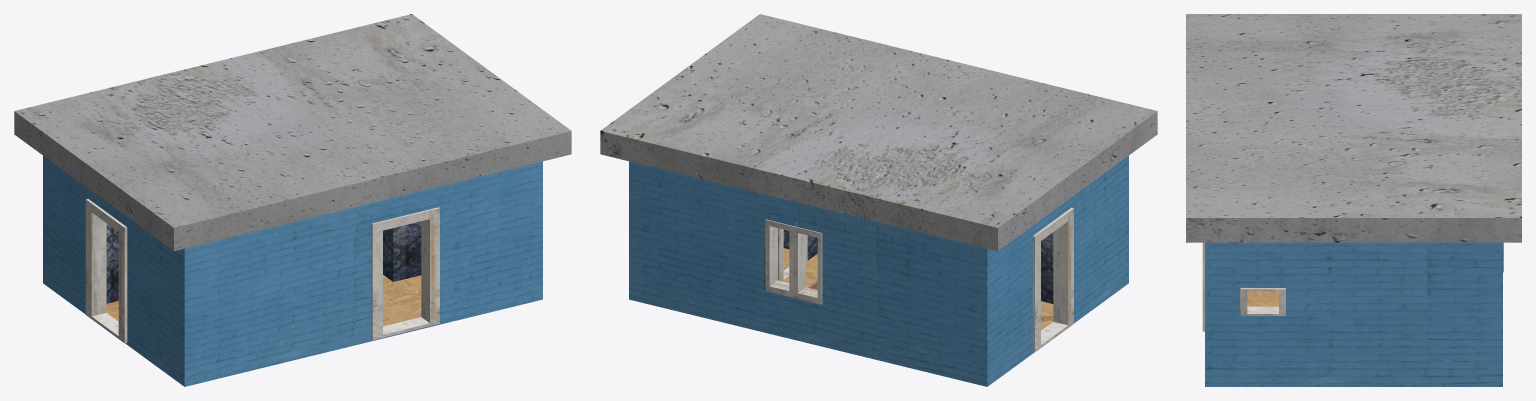
The model's file is House ver2.FBX.
3 renders of one model, left to right at view 1: azimuth 30°, elevation 25°; view 2: azimuth 150°, elevation 25°; view 3: azimuth 270°, elevation 25°, orthographic. The views are drawn at different scales.
Visible parts, largest first — view 1: House ver3; view 2: House ver3; view 3: House ver3.
Boxes of the visible parts, bbox=[...] form: House ver3: bbox=[14, 14, 571, 386]; House ver3: bbox=[600, 14, 1157, 386]; House ver3: bbox=[1186, 14, 1521, 386].
Bounding box in the file's own units: 586 × 240 × 408.
